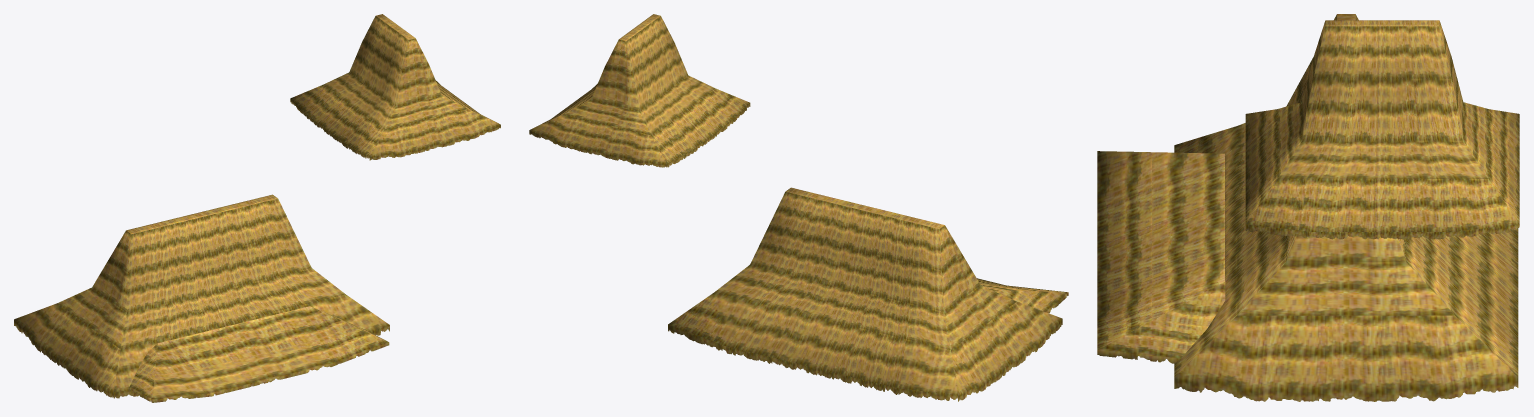
The model's file is roof_range.dae.
3 views of the same model, side by side, from view 1: azimuth 30°, elevation 25°; view 2: azimuth 150°, elevation 25°; view 3: azimuth 270°, elevation 25° (orthographic). The views are drawn at different scales.
Visible parts, largest first — view 1: range.001; view 2: range.001; view 3: range.001.
Boxes of the visible parts, x1,y1,x2,y2 form: range.001: (14,14,500,402); range.001: (529,14,1068,401); range.001: (1097,14,1519,401).
Size of the model in its own units: 23.26 by 12.09 by 13.76.
